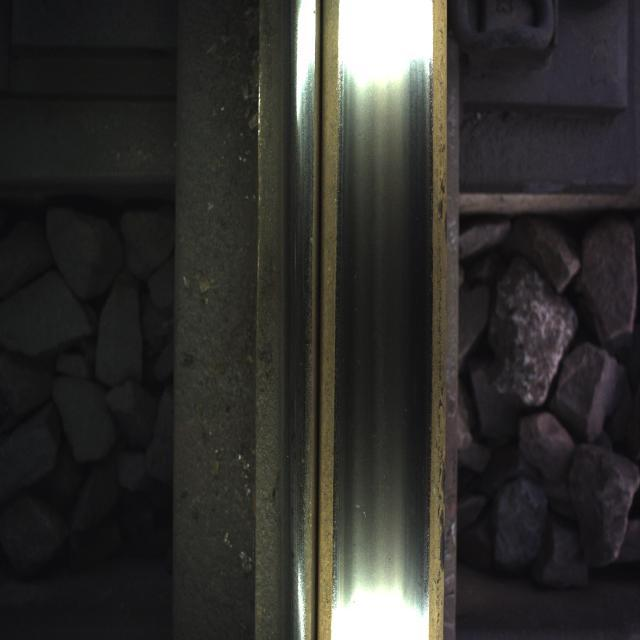break: (338, 60, 418, 556)
